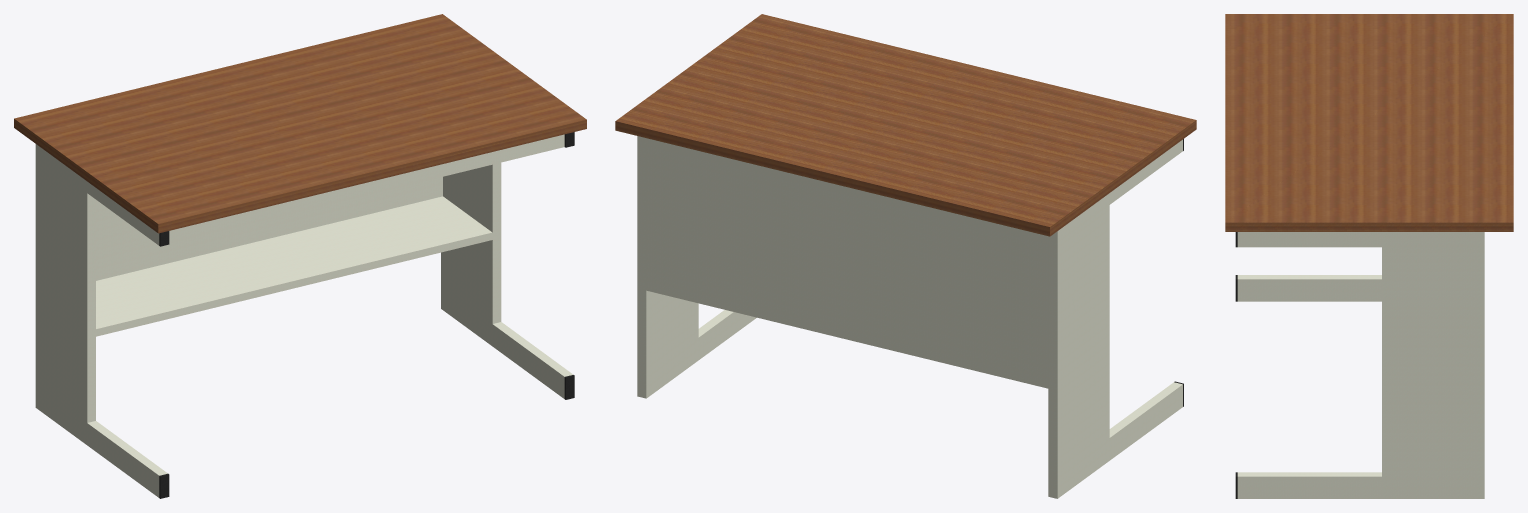
Rendered from deskLecture.gltf.
The picture shows the model from 3 angles, left to right: view 1: azimuth 30°, elevation 25°; view 2: azimuth 150°, elevation 25°; view 3: azimuth 270°, elevation 25°; orthographic projection.
Visible parts, largest first — view 1: TableTop, UnderTable, TableLeg (×2); view 2: TableTop, UnderTable, TableLeg (×2); view 3: TableTop, TableLeg (×2).
Boxes of the visible parts, <box> form: TableTop: <box>14,14,586,246</box>; UnderTable: <box>96,177,492,336</box>; TableLeg (×2): <box>35,156,574,498</box>; TableTop: <box>615,14,1196,242</box>; UnderTable: <box>646,143,1048,388</box>; TableLeg (×2): <box>637,140,1183,498</box>; TableTop: <box>1225,14,1513,247</box>; TableLeg (×2): <box>1235,247,1484,498</box>.
Size of the model in its own units: 1.2 by 0.75 by 0.7.
3 materials, 3 textured.
